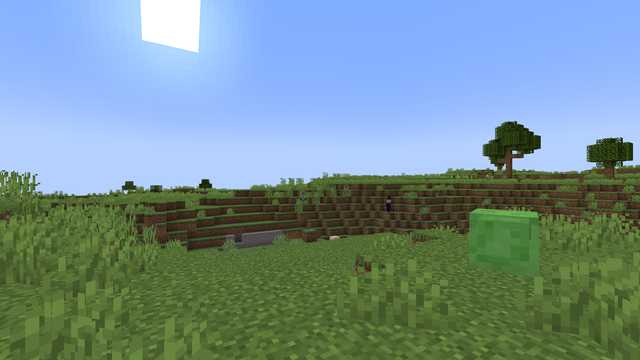slimes: (461, 206, 549, 278)
sorcieres: (385, 198, 391, 212)
squelettes: (300, 191, 305, 205)
